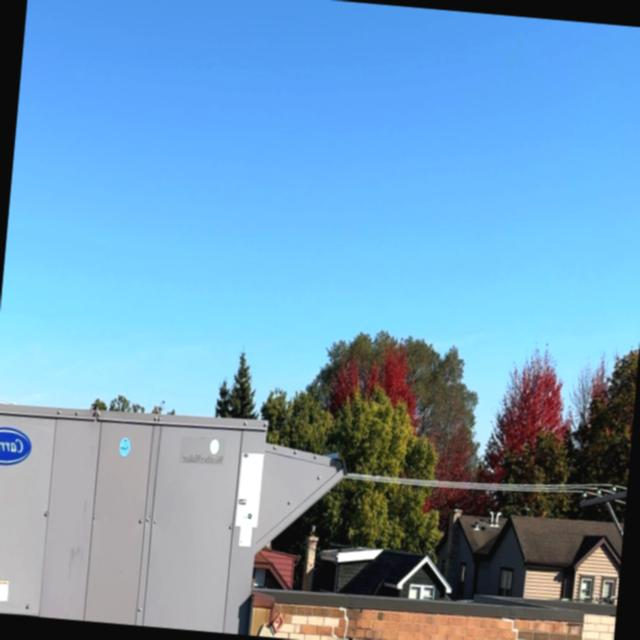RTU: (0, 390, 357, 640)
